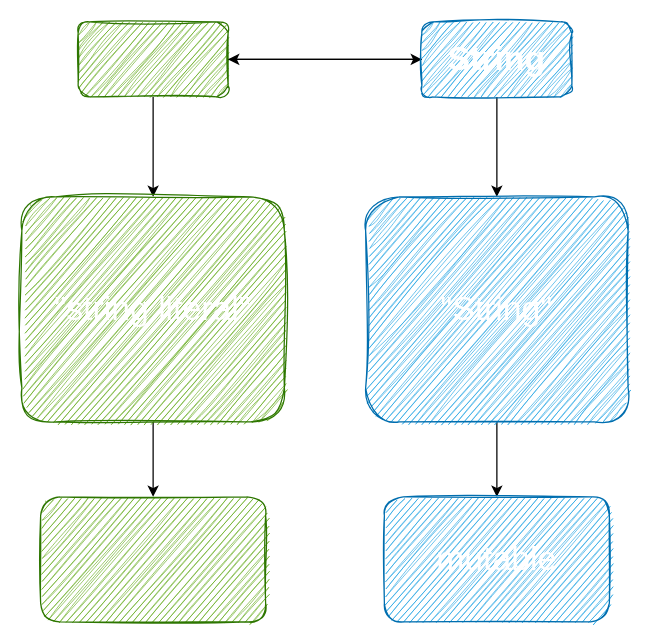
This 650x644 diagram has some shape labels left out. Here are the shapes that lost their labels. From the top down, the box of each, then its label:
(77, 21, 228, 97): &str
(39, 496, 266, 622): immutable
